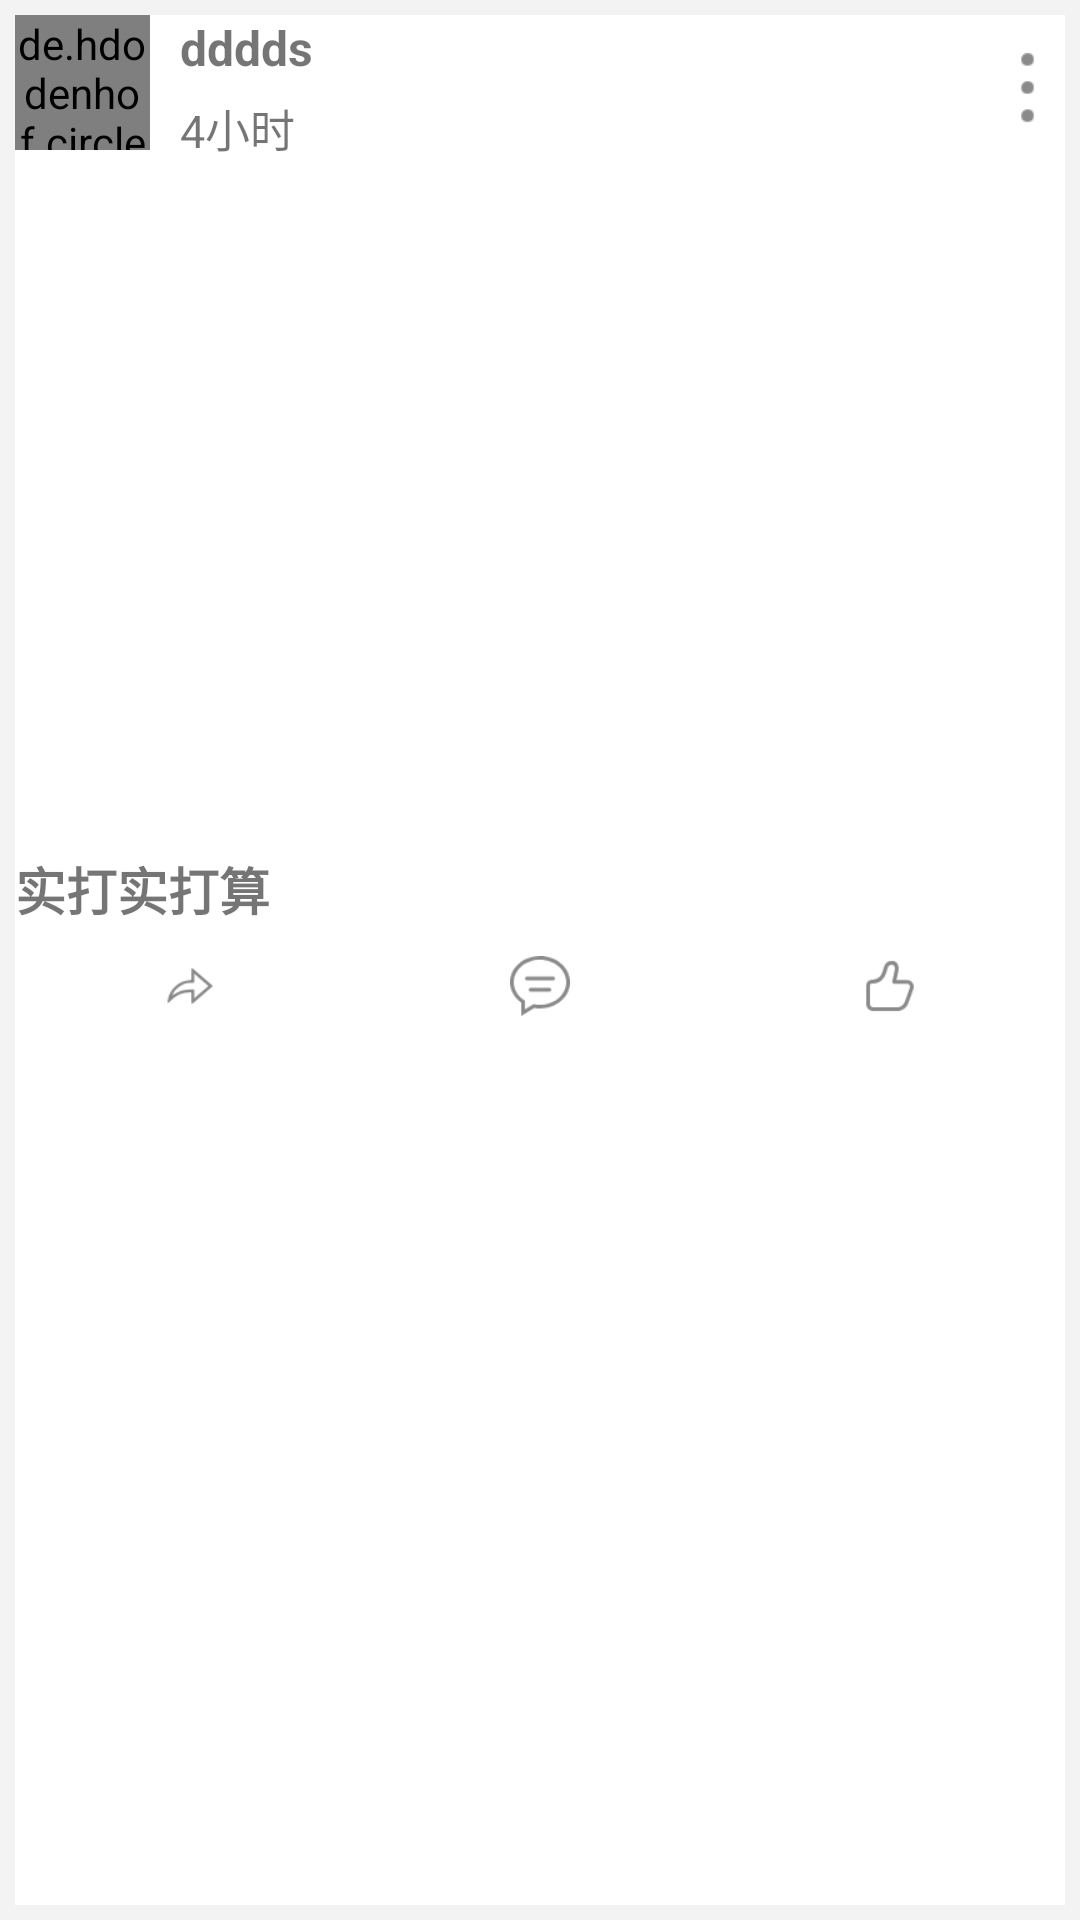

Where to tap for icons on this 1080px×1920px app screen, as (x,y):
ellipsis: (1027,87)
share: (190,986)
voide dianzan: (890,986)
voide pinglun: (540,986)
